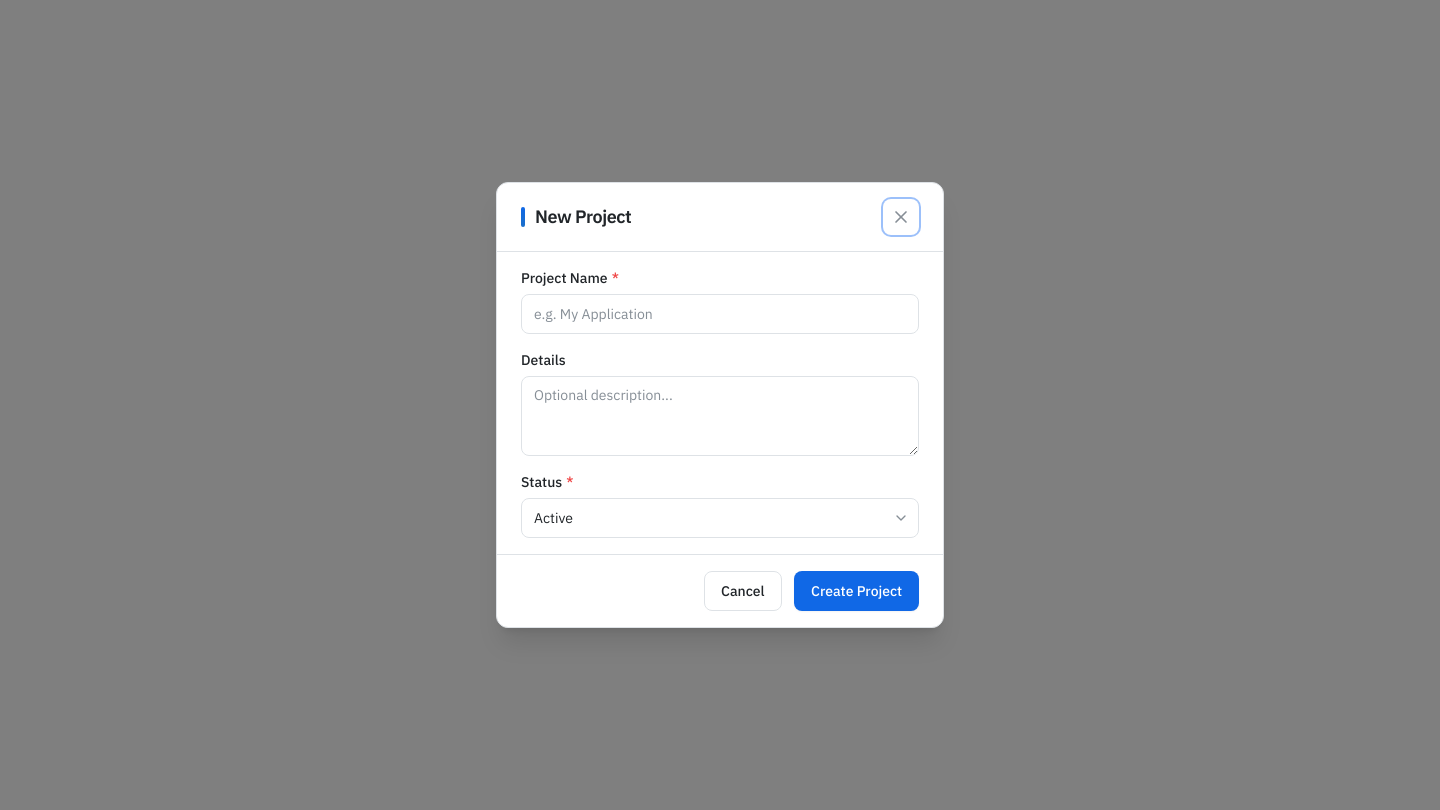
Test case: ProjectModal notifications › renders a visible success toast after backend confirmation and closes the modal
The width and height of the screenshot is (1440, 810).
In the field labelled "Project Name": coordinates (720, 314) [521,294,919,334], type "Visible Toast"
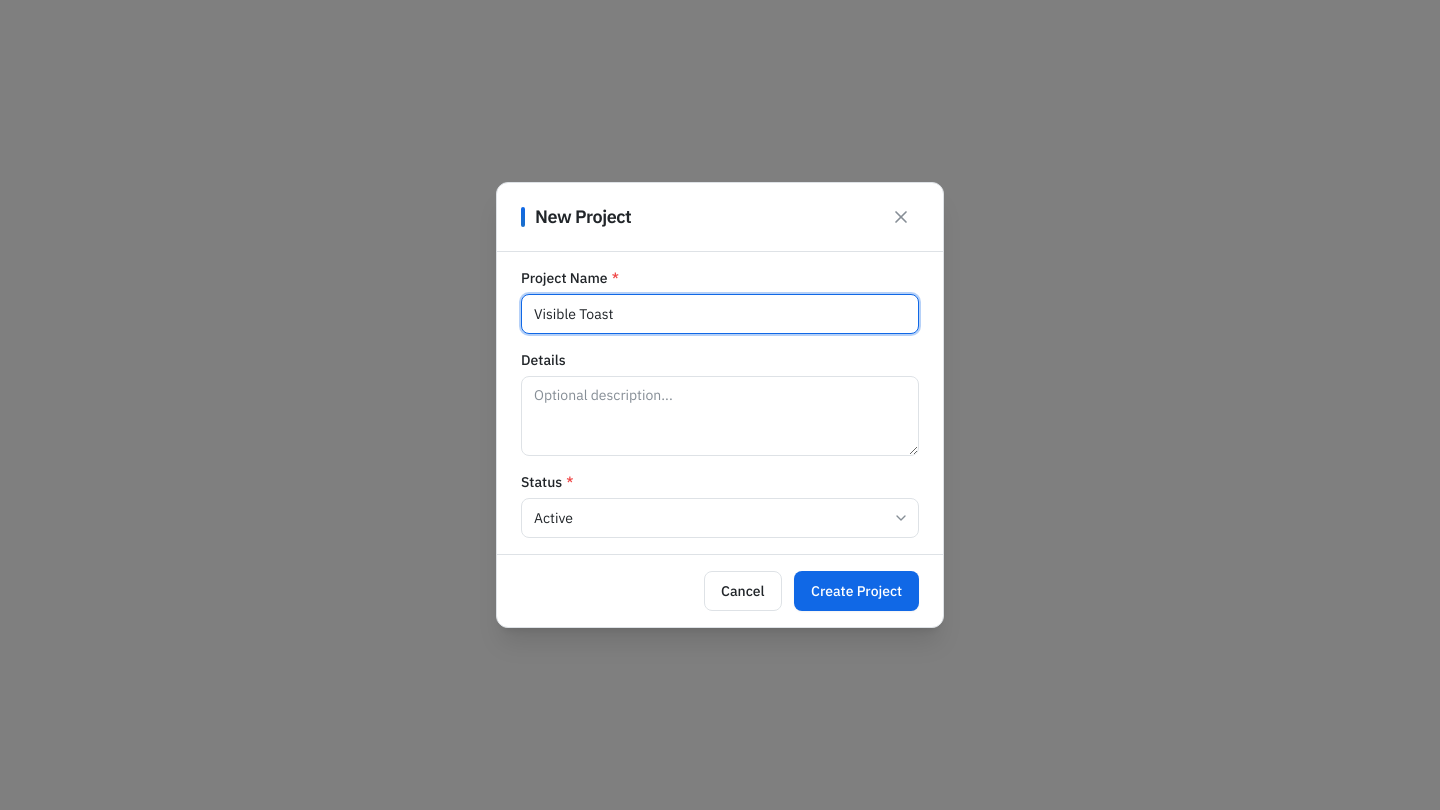
Click the button "Create Project": coordinates (856, 591) [794,571,919,611]
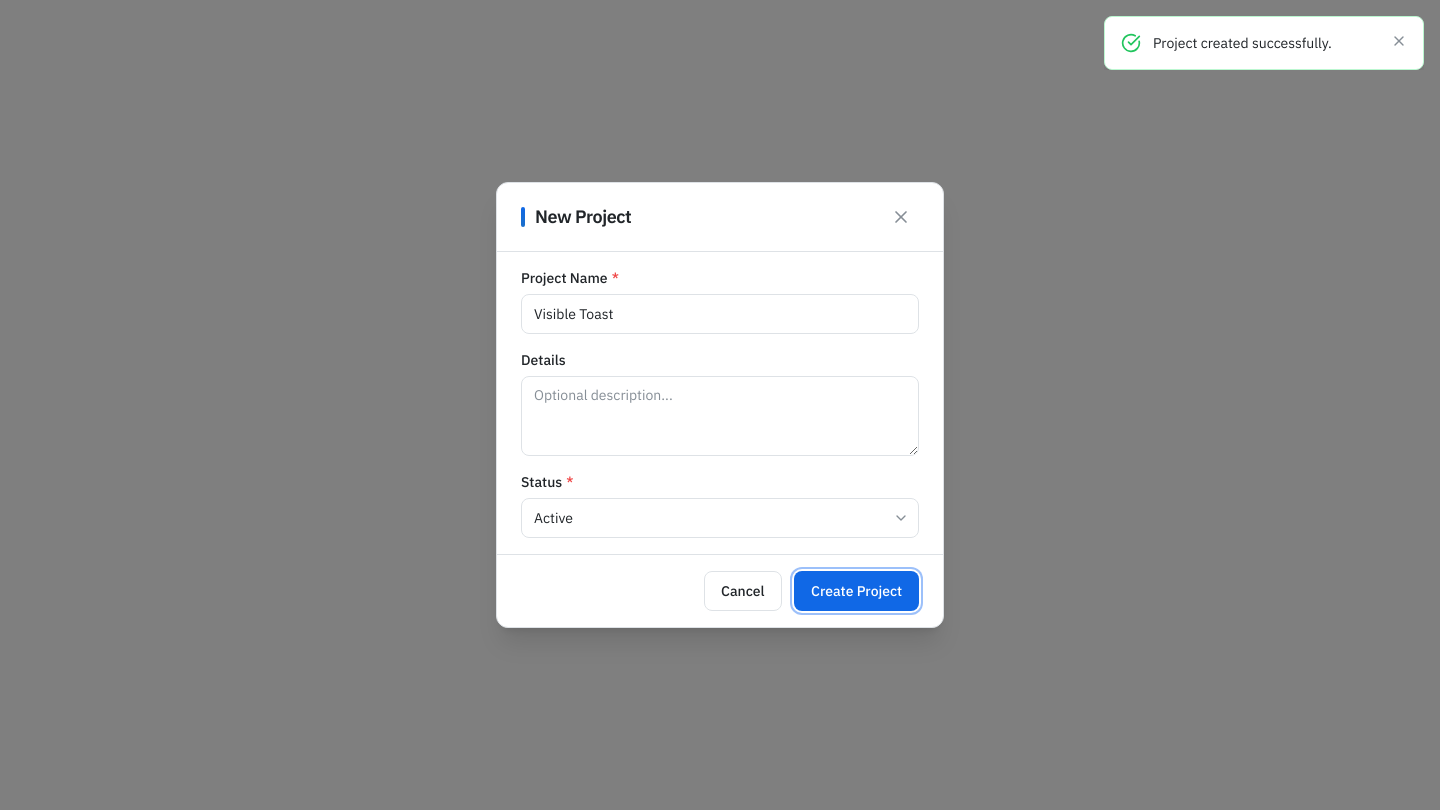
Now the message reads "Project created successfully.", box [1153,34,1332,52]
